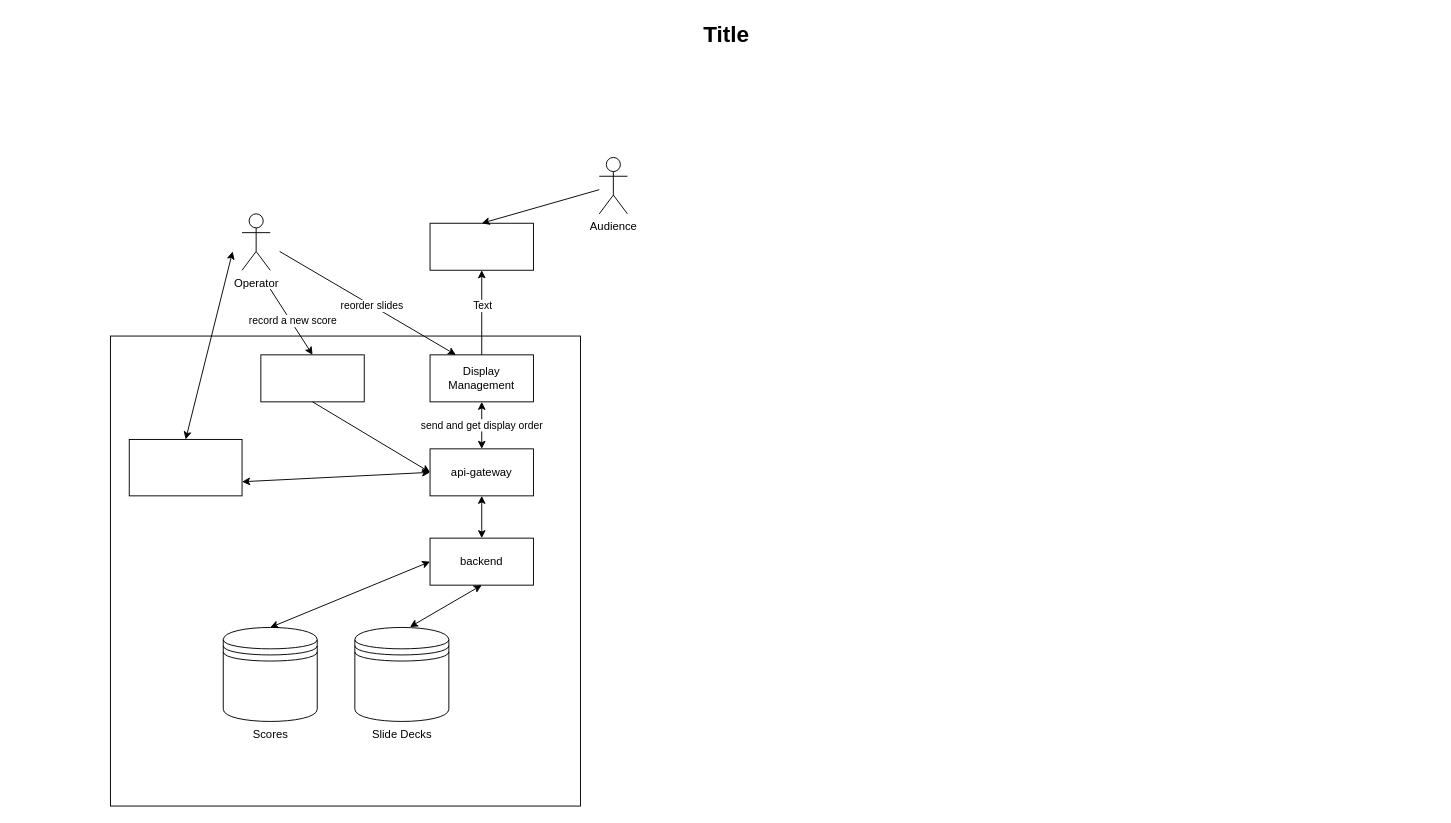
The diagram is 1451 pixels wide and 823 high, and some of its shapes have lost their labels. The shapes that lost their labels are listed below. From the top down, each one's centre as x and y in pixels, then its label:
At point 481,246: "Screens".
At point 312,378: "Score Input".
At point 185,467: "AI Suggestion Service".
